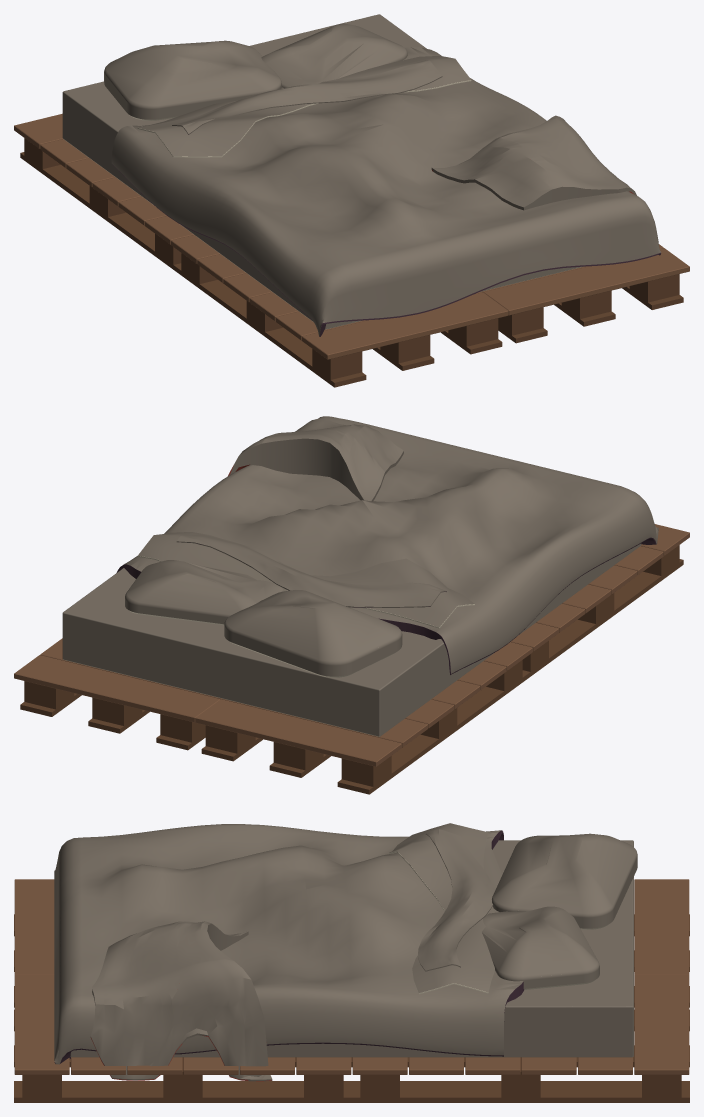
File: pallet-bed-e6d8d243845b.glb
3 renders of one model, top to bottom at view 1: azimuth 30°, elevation 25°; view 2: azimuth 150°, elevation 25°; view 3: azimuth 270°, elevation 25°, orthographic. The views are drawn at different scales.
Parts seen in each view (by area): view 1: cover-cloth, wood-walnut, wood-walnut-dark, cloth-plum, cloth-cream; view 2: cover-cloth, wood-walnut, wood-walnut-dark, cloth-cream, cloth-plum; view 3: cover-cloth, wood-walnut, wood-walnut-dark, cloth-cream, cloth-plum.
Part boxes in pixels (<box>): cover-cloth: <box>62,14,661,336</box>; wood-walnut: <box>14,113,689,359</box>; wood-walnut-dark: <box>20,138,683,387</box>; cloth-plum: <box>112,134,660,336</box>; cloth-cream: <box>64,80,582,329</box>; cover-cloth: <box>62,416,658,736</box>; wood-walnut: <box>14,524,689,766</box>; wood-walnut-dark: <box>20,545,683,794</box>; cloth-cream: <box>63,546,639,736</box>; cloth-plum: <box>116,537,656,674</box>; cover-cloth: <box>54,823,637,1081</box>; wood-walnut: <box>14,879,689,1074</box>; wood-walnut-dark: <box>14,914,689,1102</box>; cloth-cream: <box>71,833,632,1057</box>; cloth-plum: <box>54,830,524,1063</box>.
Size of the model in its own units: 1.6 by 0.5288 by 2.4.
